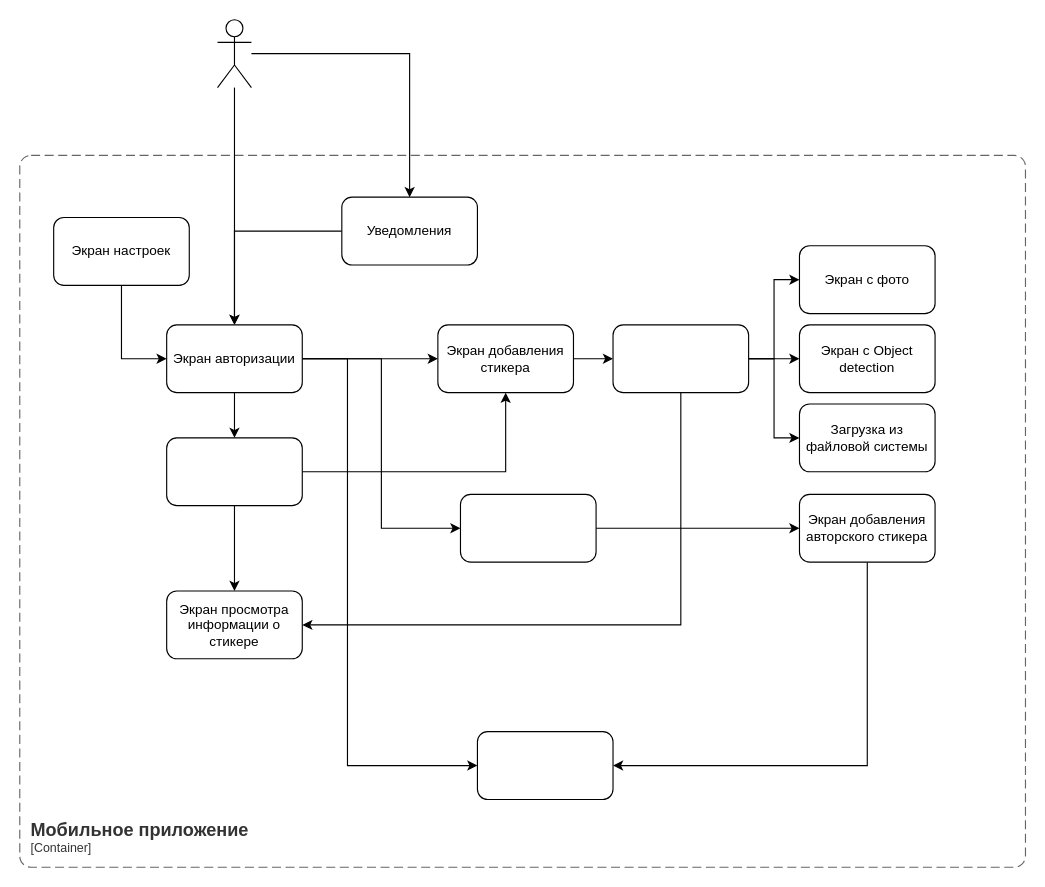
The diagram is 1045 pixels wide and 887 high, and some of its shapes have lost their labels. The shapes that lost their labels are listed below. From the top down, each one's centre as x and y in pixels, then its label:
the point at 233,53: Юзер
the point at 680,358: Экран с камерой
the point at 234,471: Экран коллекций
the point at 527,527: Экран кабинета автора
the point at 544,765: Экран рассылки оповещений
